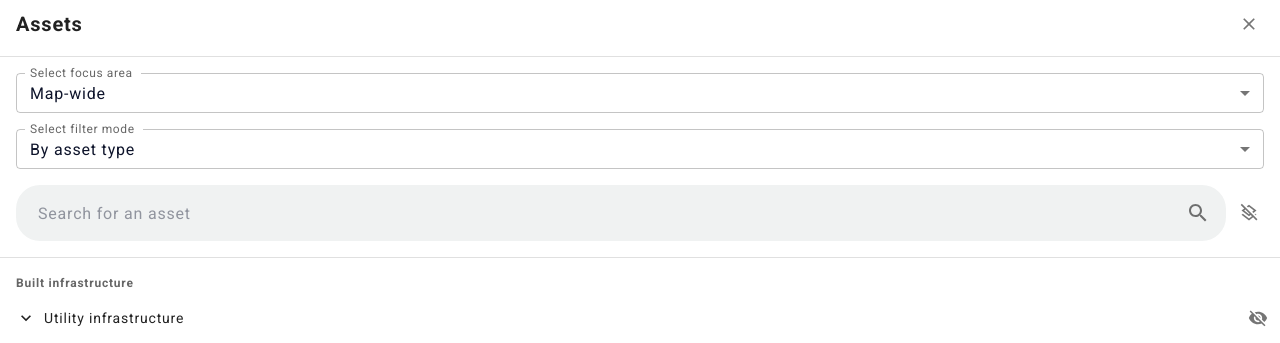
Test case: AssetsView › Focus Area Selection › shows focus areas in dropdown
Press the mouse on the dropdown named "Select focus area" at point(68, 93), box [30, 84, 106, 102]
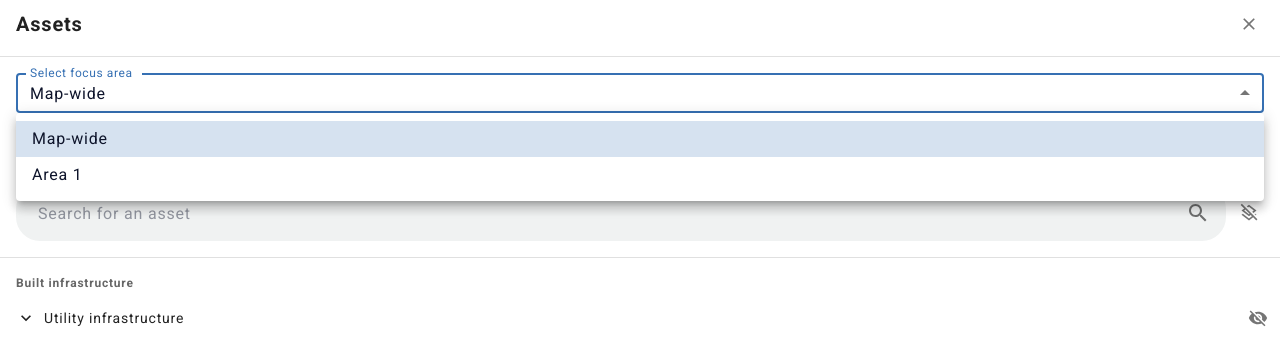
Now the list is shown, box [16, 113, 1264, 201]
Now the option "Map-wide" is shown, box [16, 121, 1264, 157]
Now the option "Area 1" is shown, box [32, 165, 83, 184]
